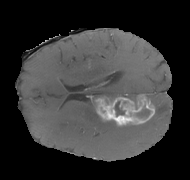Edema: (81, 94, 164, 152)
EnhancingTumors: (94, 92, 156, 132)
Necrosis: (102, 96, 154, 133)
